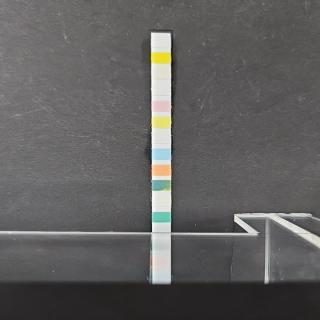mark: (152, 33, 170, 48), (152, 163, 171, 176), (152, 115, 170, 128), (152, 51, 170, 64), (152, 180, 170, 192), (152, 148, 170, 160), (152, 132, 170, 144), (152, 100, 170, 112), (153, 83, 170, 95), (153, 68, 170, 80), (152, 212, 171, 222), (152, 197, 170, 207)
